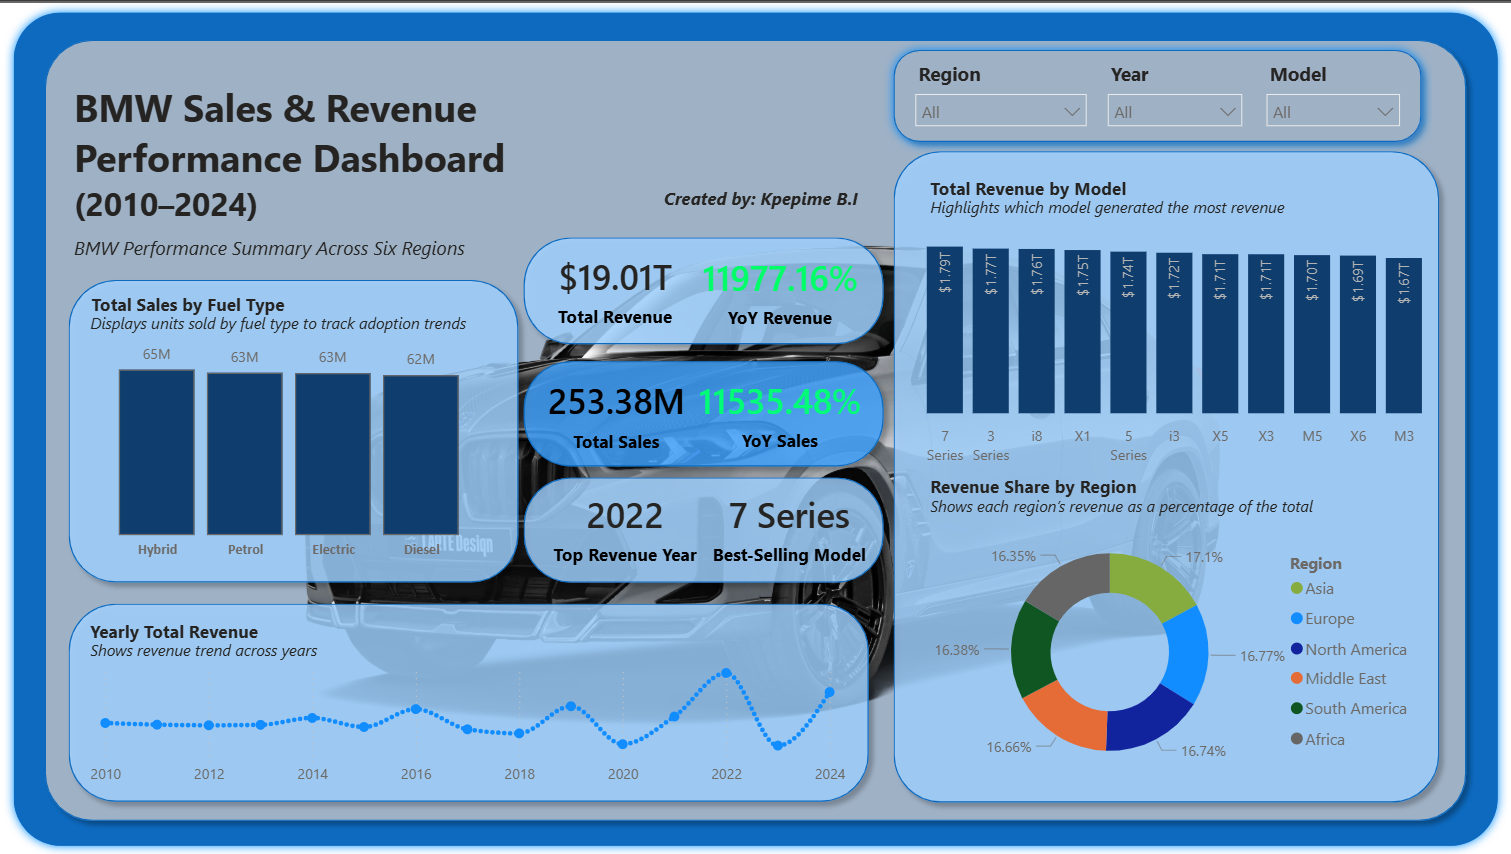

This screenshot's page, from the dashboard's own definition file:
{"tool":"powerbi","page":{"name":"Page 1","canvas":[1280,720],"ordinal":0},"visuals":[{"type":"shape","box":[10,0,1270.1,720.3],"z":0},{"type":"shape","box":[231.4,240.1,148,136.8],"z":1000},{"type":"shape","box":[34.8,22.4,1219.1,678],"z":2000},{"type":"textbox","box":[63.4,61,393.1,131.9],"z":3000},{"type":"textbox","box":[63.4,190.3,386.9,36.1],"z":4000},{"type":"image","box":[68.4,150.5,1154.4,512.5],"z":5000},{"type":"shape","box":[54.7,225.2,398.1,273.7],"z":6000},{"type":"shape","box":[439.1,391.8,322.2,107],"z":7000},{"type":"shape","box":[54.7,498.8,694.1,185.3],"z":8000},{"type":"shape","box":[752.6,115.7,478.9,568.5],"z":9000},{"type":"donutChart","fields":{"Category":["LET'S TRY THIS DATA.Region"],"Y":["Sum(LET'S TRY THIS DATA.Revenue)"]},"box":[787.4,426.7,422.9,243.8],"z":10000},{"type":"lineChart","fields":{"Category":["LET'S TRY THIS DATA.Year"],"Y":["Sum(LET'S TRY THIS DATA.Revenue)"]},"box":[77.1,548.6,648.1,121.9],"z":11000},{"type":"columnChart","fields":{"Category":["LET'S TRY THIS DATA.Fuel_Type"],"Y":["Sum(LET'S TRY THIS DATA.Volume)"]},"box":[72.1,273.7,358.3,205.3],"z":12000},{"type":"columnChart","fields":{"Category":["LET'S TRY THIS DATA.Model"],"Y":["Sum(LET'S TRY THIS DATA.Revenue)"]},"box":[765,169.2,464,228.9],"z":13000},{"type":"textbox","box":[77.1,515,170.4,33.6],"z":14000},{"type":"textbox","box":[787.4,393.1,256.3,33.6],"z":15000},{"type":"textbox","box":[78.4,240.1,181.6,33.6],"z":16000},{"type":"textbox","box":[787.4,141.8,205.3,33.6],"z":17000},{"type":"textbox","box":[77.1,532.4,233.9,34.8],"z":18000},{"type":"textbox","box":[787.4,410.5,335.9,34.8],"z":19000},{"type":"textbox","box":[77.1,256.3,348.3,34.8],"z":20000},{"type":"textbox","box":[787.4,158,319.7,34.8],"z":21000},{"type":"textbox","box":[562.3,150.5,179.1,36.1],"z":22000},{"type":"shape","box":[439.1,189.1,322.2,108.2],"z":23000},{"type":"shape","box":[439.1,293.6,322.2,107],"z":24000},{"type":"card","fields":{"Values":["Sum(LET'S TRY THIS DATA.Revenue)"]},"box":[452.8,205.3,145.5,74.6],"z":25000},{"type":"card","fields":{"Values":["Sum(Top_revenue_year.Year)"]},"box":[461.5,398.1,145.5,89.6],"z":26000},{"type":"card","fields":{"Values":["Sum(LET'S TRY THIS DATA.Volume)"]},"box":[461.5,299.8,130.6,94.5],"z":27000},{"type":"card","fields":{"Values":["Min(Bestselling_model.Model)"]},"box":[598.3,396.8,150.5,92.1],"z":28000},{"type":"card","fields":{"Values":["Sum(LET'S TRY THIS DATA.YoY Revenue)"]},"box":[582.2,201.5,166.7,82.1],"z":29000},{"type":"card","fields":{"Values":["Sum(LET'S TRY THIS DATA.YoY Sales)"]},"box":[585.9,303.5,158,87.1],"z":30000},{"type":"shape","box":[752.6,31.1,464,95.8],"z":31000},{"type":"slicer","fields":{"Values":["LET'S TRY THIS DATA.Model"]},"box":[1066.1,43.5,133.1,72.1],"z":32000},{"type":"slicer","fields":{"Values":["LET'S TRY THIS DATA.Year"]},"box":[931.7,43.5,134.3,69.7],"z":33000},{"type":"slicer","fields":{"Values":["LET'S TRY THIS DATA.Region"]},"box":[768.8,43.5,165.4,69.7],"z":34000}]}

Visuals, with their boxes in screenshot pixels (x1, y1, x2, y2), scaled from the page's 1280x720 canvas onto the 1511x854 screenshot:
shape: <bbox>12, 0, 1510, 853</bbox>
shape: <bbox>273, 285, 448, 447</bbox>
shape: <bbox>41, 27, 1480, 831</bbox>
textbox: <bbox>75, 72, 539, 229</bbox>
textbox: <bbox>75, 226, 532, 269</bbox>
image: <bbox>81, 179, 1443, 786</bbox>
shape: <bbox>65, 267, 535, 592</bbox>
shape: <bbox>518, 465, 899, 592</bbox>
shape: <bbox>65, 592, 884, 811</bbox>
shape: <bbox>888, 137, 1454, 812</bbox>
donutChart - LET'S TRY THIS DATA.Region x Sum(LET'S TRY THIS DATA.Revenue): <bbox>930, 506, 1429, 795</bbox>
lineChart - LET'S TRY THIS DATA.Year x Sum(LET'S TRY THIS DATA.Revenue): <bbox>91, 651, 856, 795</bbox>
columnChart - LET'S TRY THIS DATA.Fuel_Type x Sum(LET'S TRY THIS DATA.Volume): <bbox>85, 325, 508, 568</bbox>
columnChart - LET'S TRY THIS DATA.Model x Sum(LET'S TRY THIS DATA.Revenue): <bbox>903, 201, 1451, 472</bbox>
textbox: <bbox>91, 611, 292, 651</bbox>
textbox: <bbox>930, 466, 1232, 506</bbox>
textbox: <bbox>93, 285, 307, 325</bbox>
textbox: <bbox>930, 168, 1172, 208</bbox>
textbox: <bbox>91, 631, 367, 673</bbox>
textbox: <bbox>930, 487, 1326, 528</bbox>
textbox: <bbox>91, 304, 502, 345</bbox>
textbox: <bbox>930, 187, 1307, 229</bbox>
textbox: <bbox>664, 179, 875, 221</bbox>
shape: <bbox>518, 224, 899, 353</bbox>
shape: <bbox>518, 348, 899, 475</bbox>
card - Sum(LET'S TRY THIS DATA.Revenue): <bbox>535, 244, 706, 332</bbox>
card - Sum(Top_revenue_year.Year): <bbox>545, 472, 717, 578</bbox>
card - Sum(LET'S TRY THIS DATA.Volume): <bbox>545, 356, 699, 468</bbox>
card - Min(Bestselling_model.Model): <bbox>706, 471, 884, 580</bbox>
card - Sum(LET'S TRY THIS DATA.YoY Revenue): <bbox>687, 239, 884, 336</bbox>
card - Sum(LET'S TRY THIS DATA.YoY Sales): <bbox>692, 360, 878, 463</bbox>
shape: <bbox>888, 37, 1436, 151</bbox>
slicer - LET'S TRY THIS DATA.Model: <bbox>1258, 52, 1416, 137</bbox>
slicer - LET'S TRY THIS DATA.Year: <bbox>1100, 52, 1258, 134</bbox>
slicer - LET'S TRY THIS DATA.Region: <bbox>908, 52, 1103, 134</bbox>
